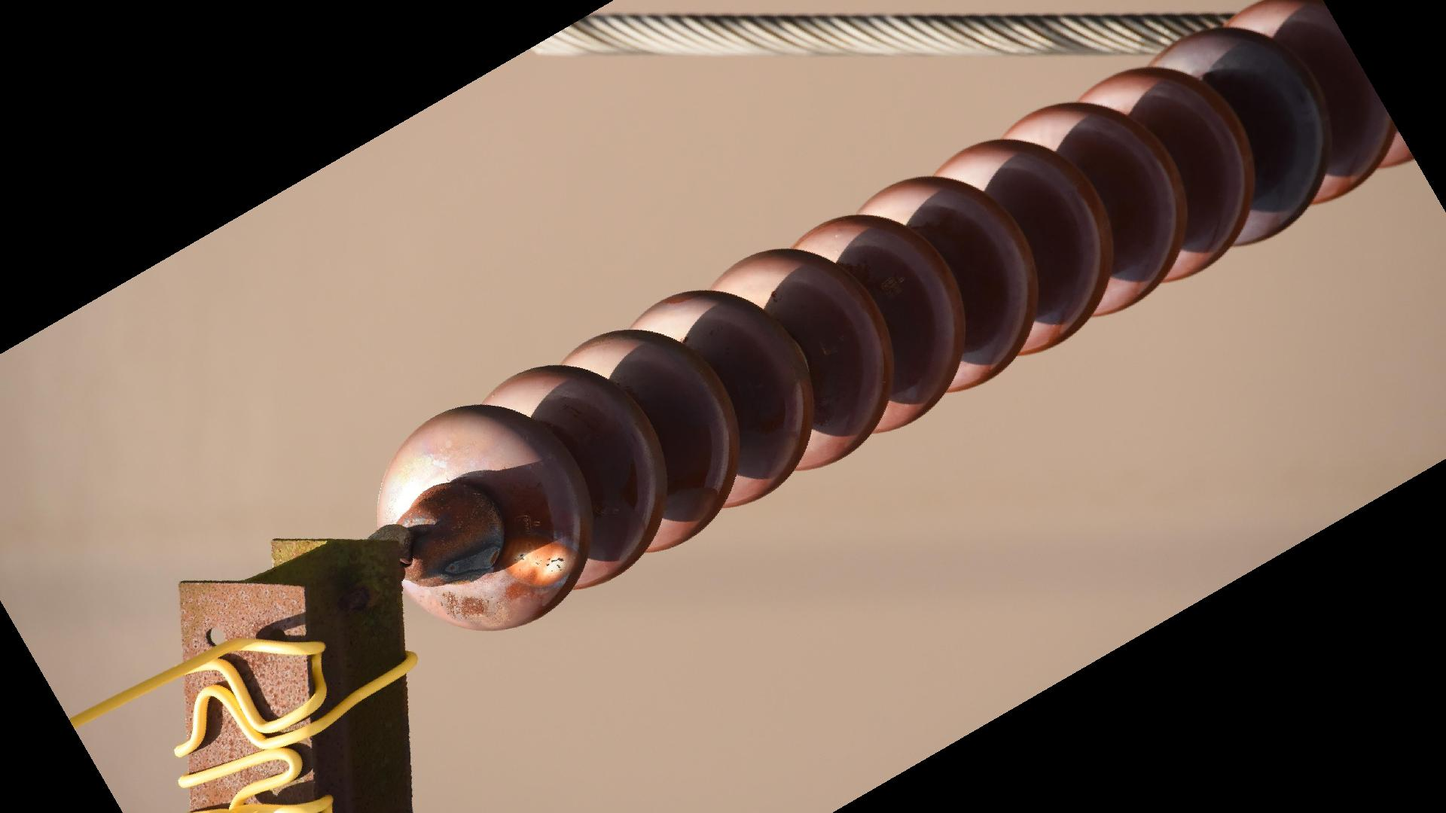insulator: (368, 1, 1420, 637)
insulator_flashover: (497, 531, 578, 591)
